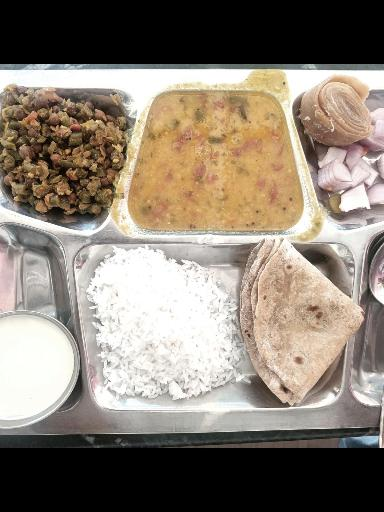Curd: (0, 302, 80, 434)
Dal: (129, 87, 298, 233)
Rice: (86, 245, 236, 403)
Roti: (242, 239, 370, 406)
Salad: (320, 156, 384, 209)
Sweet: (294, 73, 366, 143)
Vegetable: (0, 78, 127, 222)
